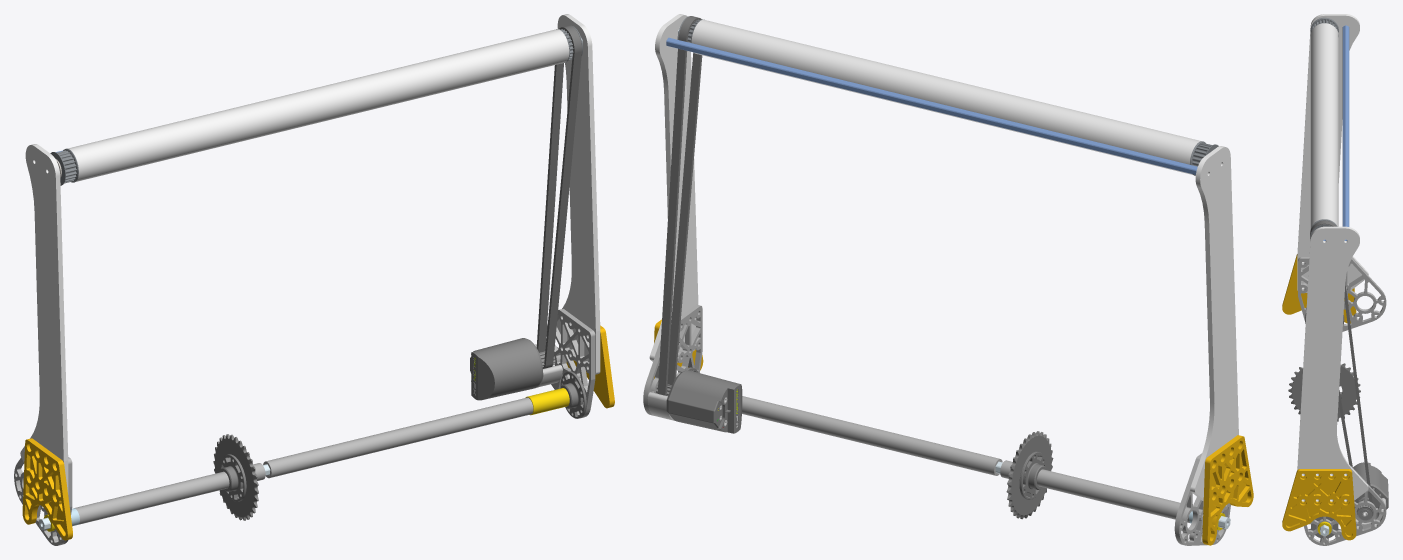
3 views of the same model, side by side, from view 1: azimuth 30°, elevation 25°; view 2: azimuth 150°, elevation 25°; view 3: azimuth 270°, elevation 25° (orthographic). The views are drawn at different scales.
Parts seen in each view (by area): view 1: 0400-Custom-01, 0400-Plate-04.001, 0400-Plate-04, 190t 5mm Belt, Kraken X60 Brushless Motor.001, 0400-Plate-06, 0400-Plate-03.001, 32t Bearing Bore Plate 35 Chain Sprocket (217-2651), 0400-Plate-05, 0400-Plate-03, 1/2" Hex Bore Aluminum Versahub (217-2592).001, 1/2" Hex Bore Aluminum Versahub (217-2592) (+3 smaller); view 2: 0400-Custom-01, 0400-Plate-04.001, 190t 5mm Belt, 3/8" ThunderHex (27.768 in), 0400-Plate-04, Kraken X60 Brushless Motor.001, 0400-Plate-06, 32t Bearing Bore Plate 35 Chain Sprocket (217-2651), 0400-Plate-03.001, 0400-Plate-03, 1/2" Hex Bore Aluminum Versahub (217-2592).001, HEX Spacer 1.969 in.007 (+8 smaller); view 3: 0400-Plate-04, 0400-Custom-01, 0400-Plate-05, 0400-Plate-04.001, 0400-Plate-03, 3/8" ThunderHex (27.768 in), 0400-Plate-03.001, 190t 5mm Belt, 32t Bearing Bore Plate 35 Chain Sprocket (217-2651), 0400-Plate-06, Kraken X60 Brushless Motor.001, 12T x 15mm Wide Aluminum Pulley (HTD 5mm, 8mm SplineXS Bore) (+3 smaller).
Boxes of the visible parts, <box> form: 0400-Custom-01: <box>68,29,569,181</box>; 0400-Plate-04.001: <box>20,144,68,494</box>; 0400-Plate-04: <box>556,14,600,374</box>; 190t 5mm Belt: <box>536,25,581,368</box>; Kraken X60 Brushless Motor.001: <box>470,338,542,400</box>; 0400-Plate-06: <box>22,438,72,540</box>; 0400-Plate-03.001: <box>546,308,595,417</box>; 32t Bearing Bore Plate 35 Chain Sprocket (217-2651): <box>213,434,258,520</box>; 0400-Plate-05: <box>566,325,614,408</box>; 0400-Plate-03: <box>14,457,72,545</box>; 1/2" Hex Bore Aluminum Versahub (217-2592).001: <box>220,454,246,501</box>; 1/2" Hex Bore Aluminum Versahub (217-2592): <box>560,371,586,418</box>; 0400-Custom-01: <box>691,19,1201,174</box>; 0400-Plate-04.001: <box>1190,146,1238,501</box>; 190t 5mm Belt: <box>657,16,702,395</box>; 3/8" ThunderHex (27.768 in): <box>666,37,1197,174</box>; 0400-Plate-04: <box>649,14,698,362</box>; Kraken X60 Brushless Motor.001: <box>666,370,742,433</box>; 0400-Plate-06: <box>1202,435,1253,545</box>; 32t Bearing Bore Plate 35 Chain Sprocket (217-2651): <box>1006,431,1053,519</box>; 0400-Plate-03.001: <box>643,304,702,415</box>; 0400-Plate-03: <box>1174,453,1230,545</box>; 1/2" Hex Bore Aluminum Versahub (217-2592).001: <box>1019,451,1046,499</box>; HEX Spacer 1.969 in.007: <box>956,449,1002,475</box>; 0400-Plate-04: <box>1297,226,1368,501</box>; 0400-Custom-01: <box>1310,23,1338,228</box>; 0400-Plate-05: <box>1282,469,1356,540</box>; 0400-Plate-04.001: <box>1297,14,1368,292</box>; 0400-Plate-03: <box>1298,257,1386,331</box>; 3/8" ThunderHex (27.768 in): <box>1342,25,1349,240</box>; 0400-Plate-03.001: <box>1302,466,1386,545</box>; 190t 5mm Belt: <box>1310,220,1372,510</box>; 32t Bearing Bore Plate 35 Chain Sprocket (217-2651): <box>1288,363,1360,421</box>; 0400-Plate-06: <box>1282,254,1356,323</box>; Kraken X60 Brushless Motor.001: <box>1353,462,1388,516</box>; 12T x 15mm Wide Aluminum Pulley (HTD 5mm, 8mm SplineXS Bore): <box>1357,498,1373,521</box>.
Size of the model in its own units: 0.732 by 0.522 by 0.1506.
